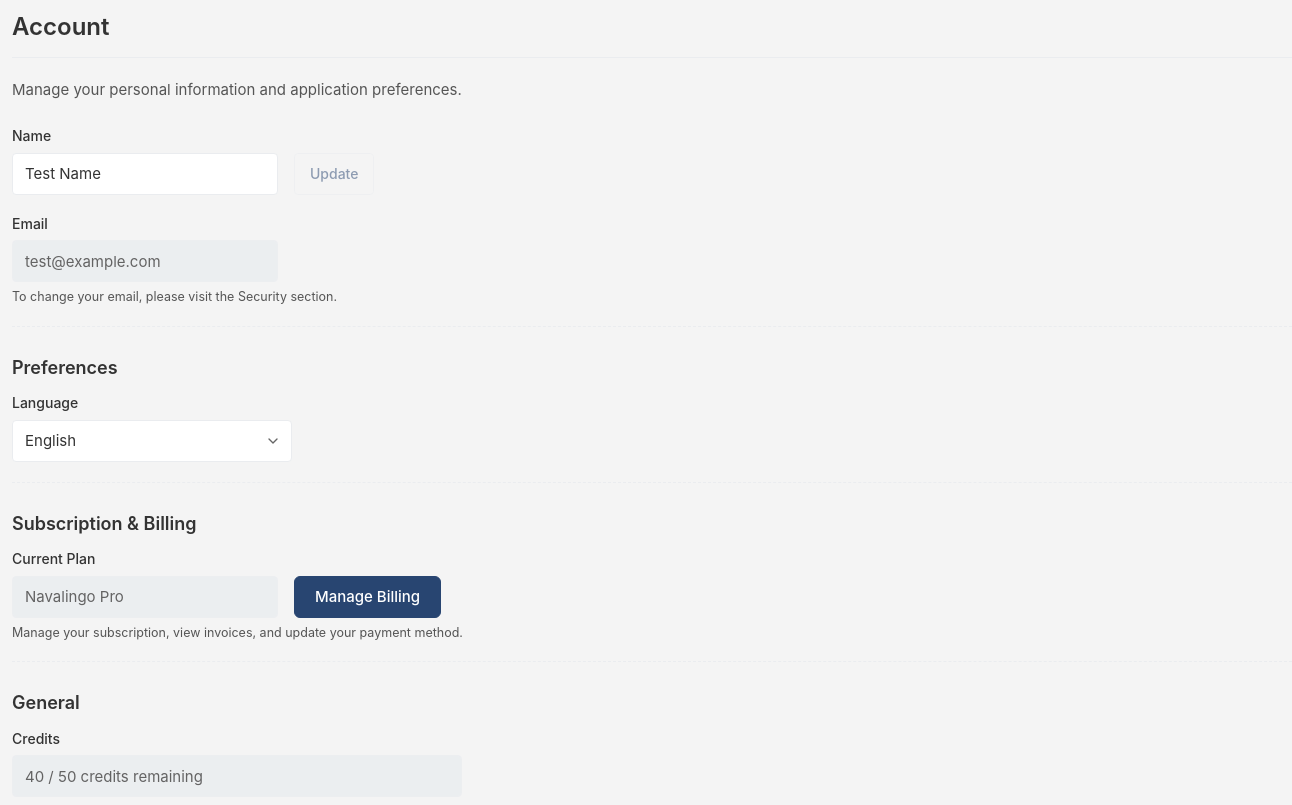
Test: <AccountSection /> › handles profile name update successfully
Step 1. Replace the text in the field showing "Test Name" with "New Name" → x=145, y=174, box [12,152,278,194]
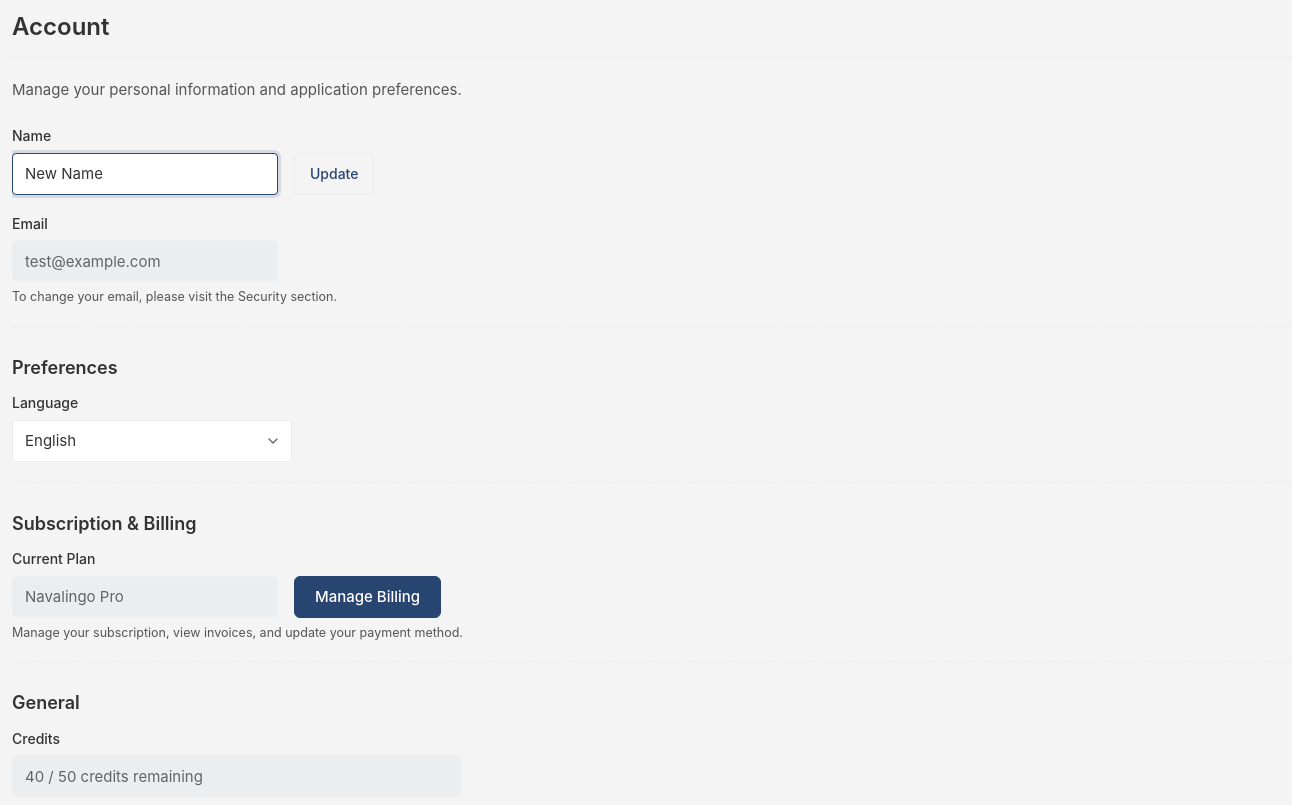
Step 2. Click the button "Update" → x=334, y=174, box [294,152,374,194]
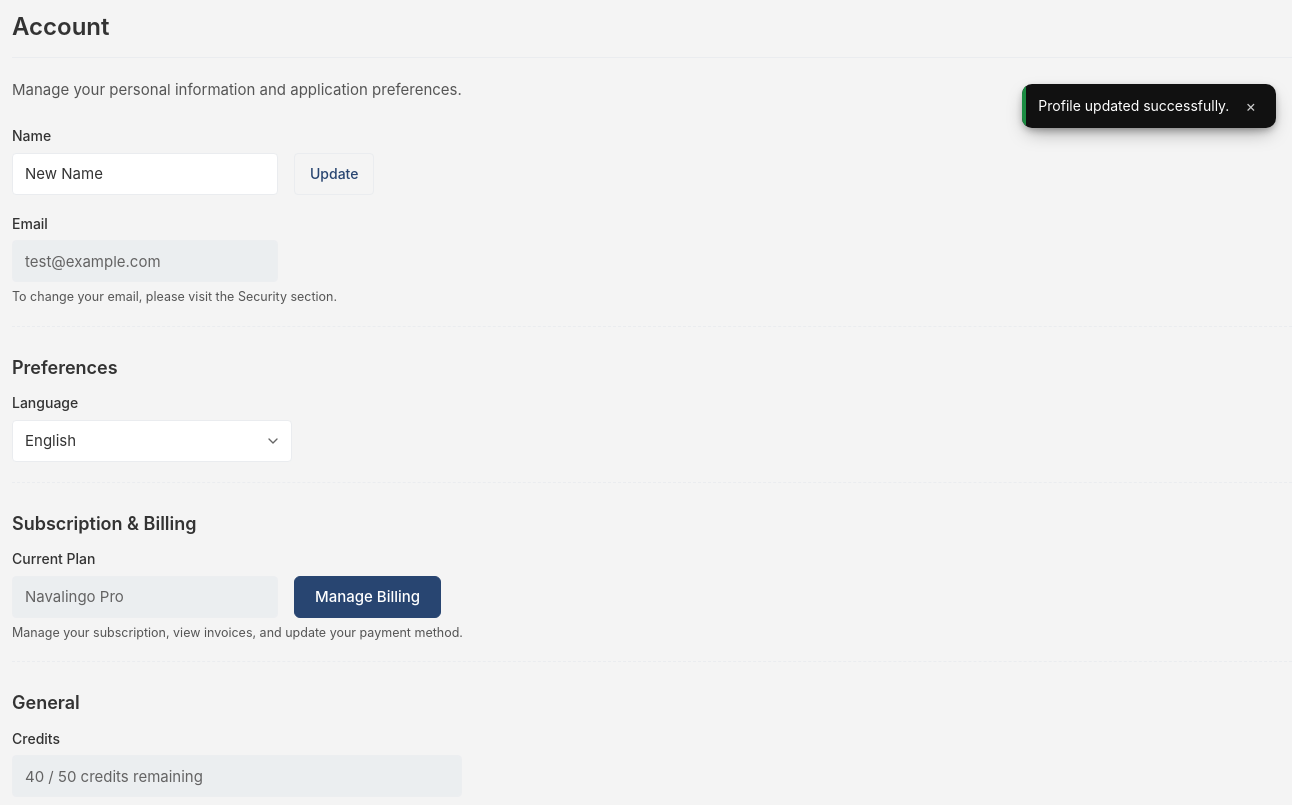
Expected: the text "Profile updated successfully." is shown, [1038,96,1229,116]
